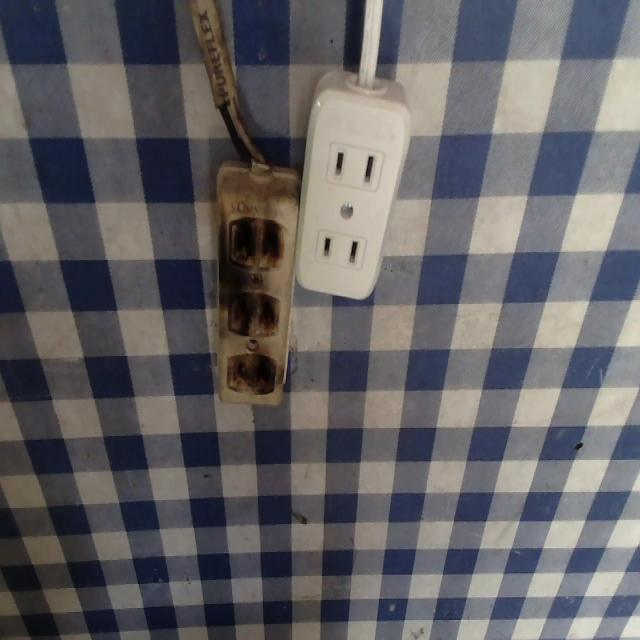-: (225, 208, 288, 279), (226, 285, 284, 343), (224, 347, 281, 405)
